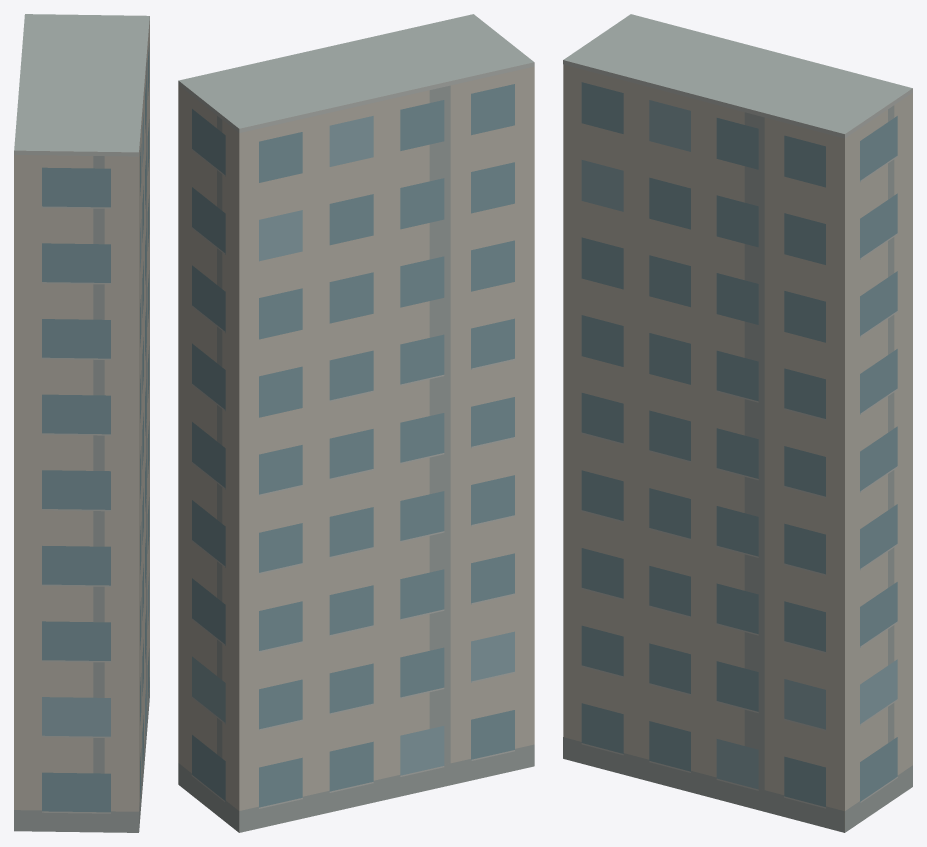
File: residential-2900d83f-ba12-4414-b8d0-14f91969e43f.glb
3 renders of one model, left to right at view 1: azimuth 30°, elevation 25°; view 2: azimuth 150°, elevation 25°; view 3: azimuth 270°, elevation 25°, orthographic. The views are drawn at different scales.
Parts seen in each view (by area): view 1: residential-2900d83f-ba12-4414-b8d0-14f91969e43f.tmp; view 2: residential-2900d83f-ba12-4414-b8d0-14f91969e43f.tmp; view 3: residential-2900d83f-ba12-4414-b8d0-14f91969e43f.tmp.
Boxes of the visible parts, x1,y1,x2,y2 form: residential-2900d83f-ba12-4414-b8d0-14f91969e43f.tmp: [14, 14, 149, 832]; residential-2900d83f-ba12-4414-b8d0-14f91969e43f.tmp: [178, 14, 534, 832]; residential-2900d83f-ba12-4414-b8d0-14f91969e43f.tmp: [563, 14, 912, 832].
Size of the model in its own units: 14.4 by 39 by 17.7.
